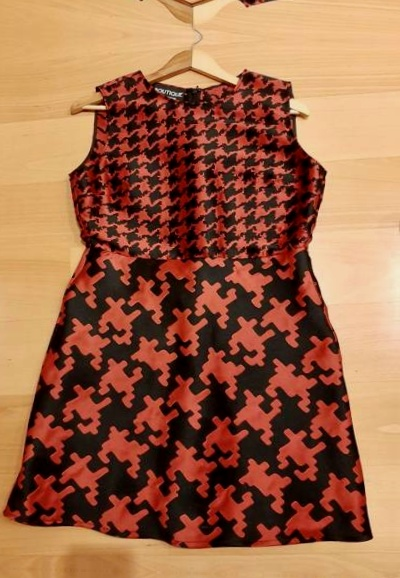Dress: (5, 59, 395, 559), (19, 0, 400, 15)
